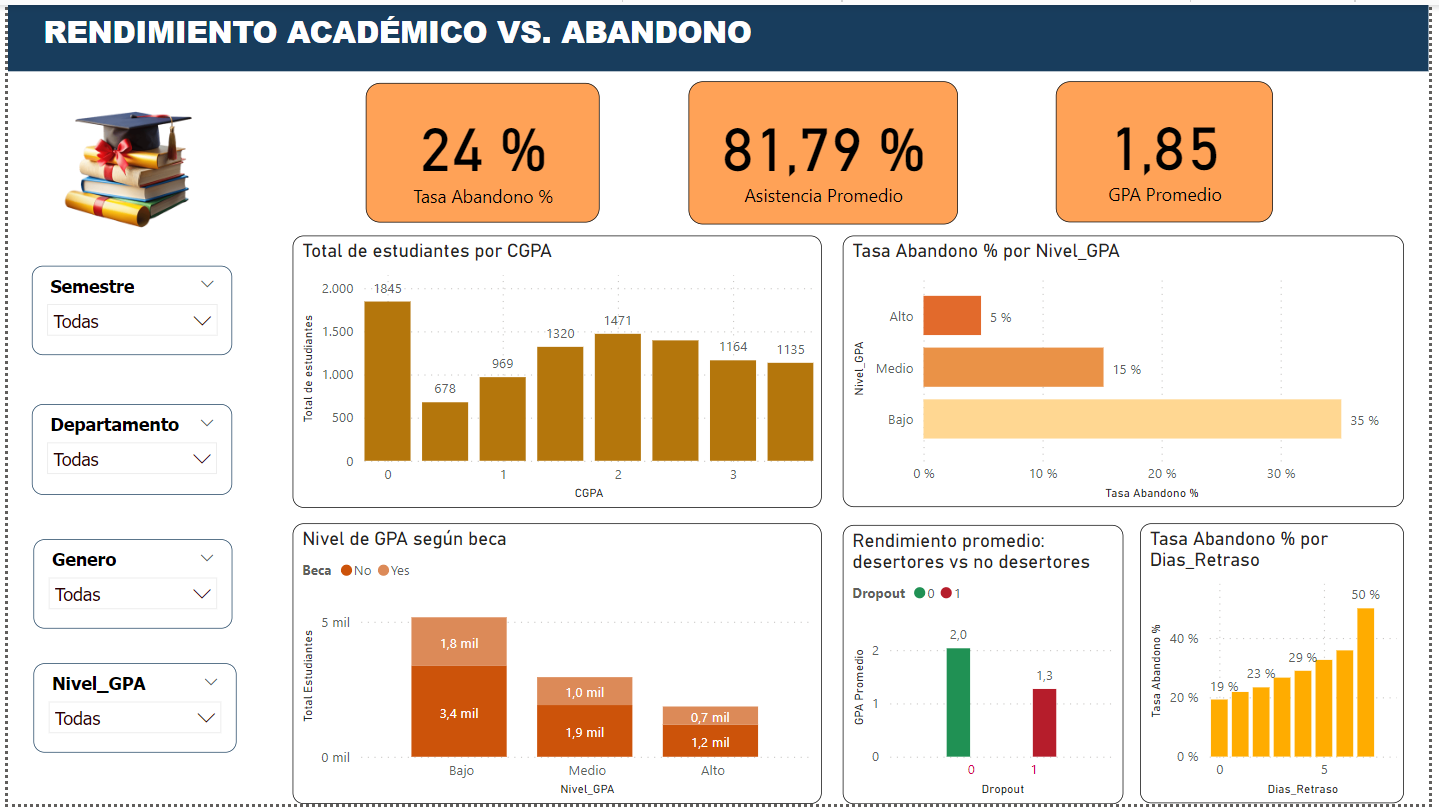

The dashboard page shown, as its layout file describes it:
{"tool":"powerbi","page":{"name":"Rendimiento","canvas":[1280,720],"ordinal":1},"visuals":[{"type":"slicer","fields":{"Values":["student_dropout_dataset_v3.Semestre"]},"box":[21.5,234.4,180.7,80.5],"z":0},{"type":"slicer","fields":{"Values":["student_dropout_dataset_v3.Genero"]},"box":[21.5,484.9,180.7,80.5],"z":1000},{"type":"textbox","box":[0,0,1280,60],"z":2000},{"type":"image","box":[22.9,68.8,179.1,150.4],"z":3000},{"type":"clusteredBarChart","fields":{"Y":["Medidas.Tasa Abandono"],"Category":["student_dropout_dataset_v3.Nivel_GPA"]},"box":[752.2,208.3,505.9,244.7],"z":4000},{"type":"clusteredColumnChart","title":"Rendimiento promedio: desertores vs no desertores","fields":{"Y":["Medidas.GPA Promedio"],"Category":["student_dropout_dataset_v3.Dropout"],"Series":["student_dropout_dataset_v3.Dropout"]},"box":[752.2,467.8,252.9,251.3],"z":5000},{"type":"columnChart","title":"Tasa de abandono según nivel de asistencia","fields":{"Category":["student_dropout_dataset_v3.Nivel_Asistencia"],"Y":["Medidas.Tasa Abandono %"]},"box":[256.2,467.8,461.2,251.3],"z":6000},{"type":"clusteredColumnChart","fields":{"Y":["Medidas.Tasa Abandono"],"Category":["student_dropout_dataset_v3.Nivel_Estudio"]},"box":[256.2,208.3,461.2,244.7],"z":7000},{"type":"clusteredColumnChart","fields":{"Category":["student_dropout_dataset_v3.Dias_Retraso"],"Y":["Medidas.Tasa Abandono %"]},"box":[1020,467.1,238,252.3],"z":8000},{"type":"card","fields":{"Values":["Medidas.Tasa Abandono %"]},"box":[321.7,69.7,210.5,126],"z":9000},{"type":"card","fields":{"Values":["Medidas.GPA Promedio"]},"box":[879.2,71.2,194.2,126],"z":10000},{"type":"card","fields":{"Values":["Medidas.Asistencia Promedio"]},"box":[590.1,69.7,241.7,127.5],"z":11000},{"type":"slicer","fields":{"Values":["student_dropout_dataset_v3.Departamento"]},"box":[21.5,359.6,180.5,81.7],"z":12000}]}

Visuals, with their boxes in screenshot pixels (x1, y1, x2, y2), scaled from the page's 1280x720 canvas onto the 1439x807 screenshot:
slicer - student_dropout_dataset_v3.Semestre: rect(24, 263, 227, 353)
slicer - student_dropout_dataset_v3.Genero: rect(24, 543, 227, 634)
textbox: rect(0, 0, 1438, 67)
image: rect(26, 77, 227, 246)
clusteredBarChart - Medidas.Tasa Abandono x student_dropout_dataset_v3.Nivel_GPA: rect(846, 233, 1414, 508)
"Rendimiento promedio: desertores vs no desertores" clusteredColumnChart: rect(846, 524, 1130, 806)
"Tasa de abandono según nivel de asistencia" columnChart: rect(288, 524, 807, 806)
clusteredColumnChart - Medidas.Tasa Abandono x student_dropout_dataset_v3.Nivel_Estudio: rect(288, 233, 807, 508)
clusteredColumnChart - student_dropout_dataset_v3.Dias_Retraso x Medidas.Tasa Abandono %: rect(1147, 524, 1414, 806)
card - Medidas.Tasa Abandono %: rect(362, 78, 598, 219)
card - Medidas.GPA Promedio: rect(988, 80, 1207, 221)
card - Medidas.Asistencia Promedio: rect(663, 78, 935, 221)
slicer - student_dropout_dataset_v3.Departamento: rect(24, 403, 227, 495)
